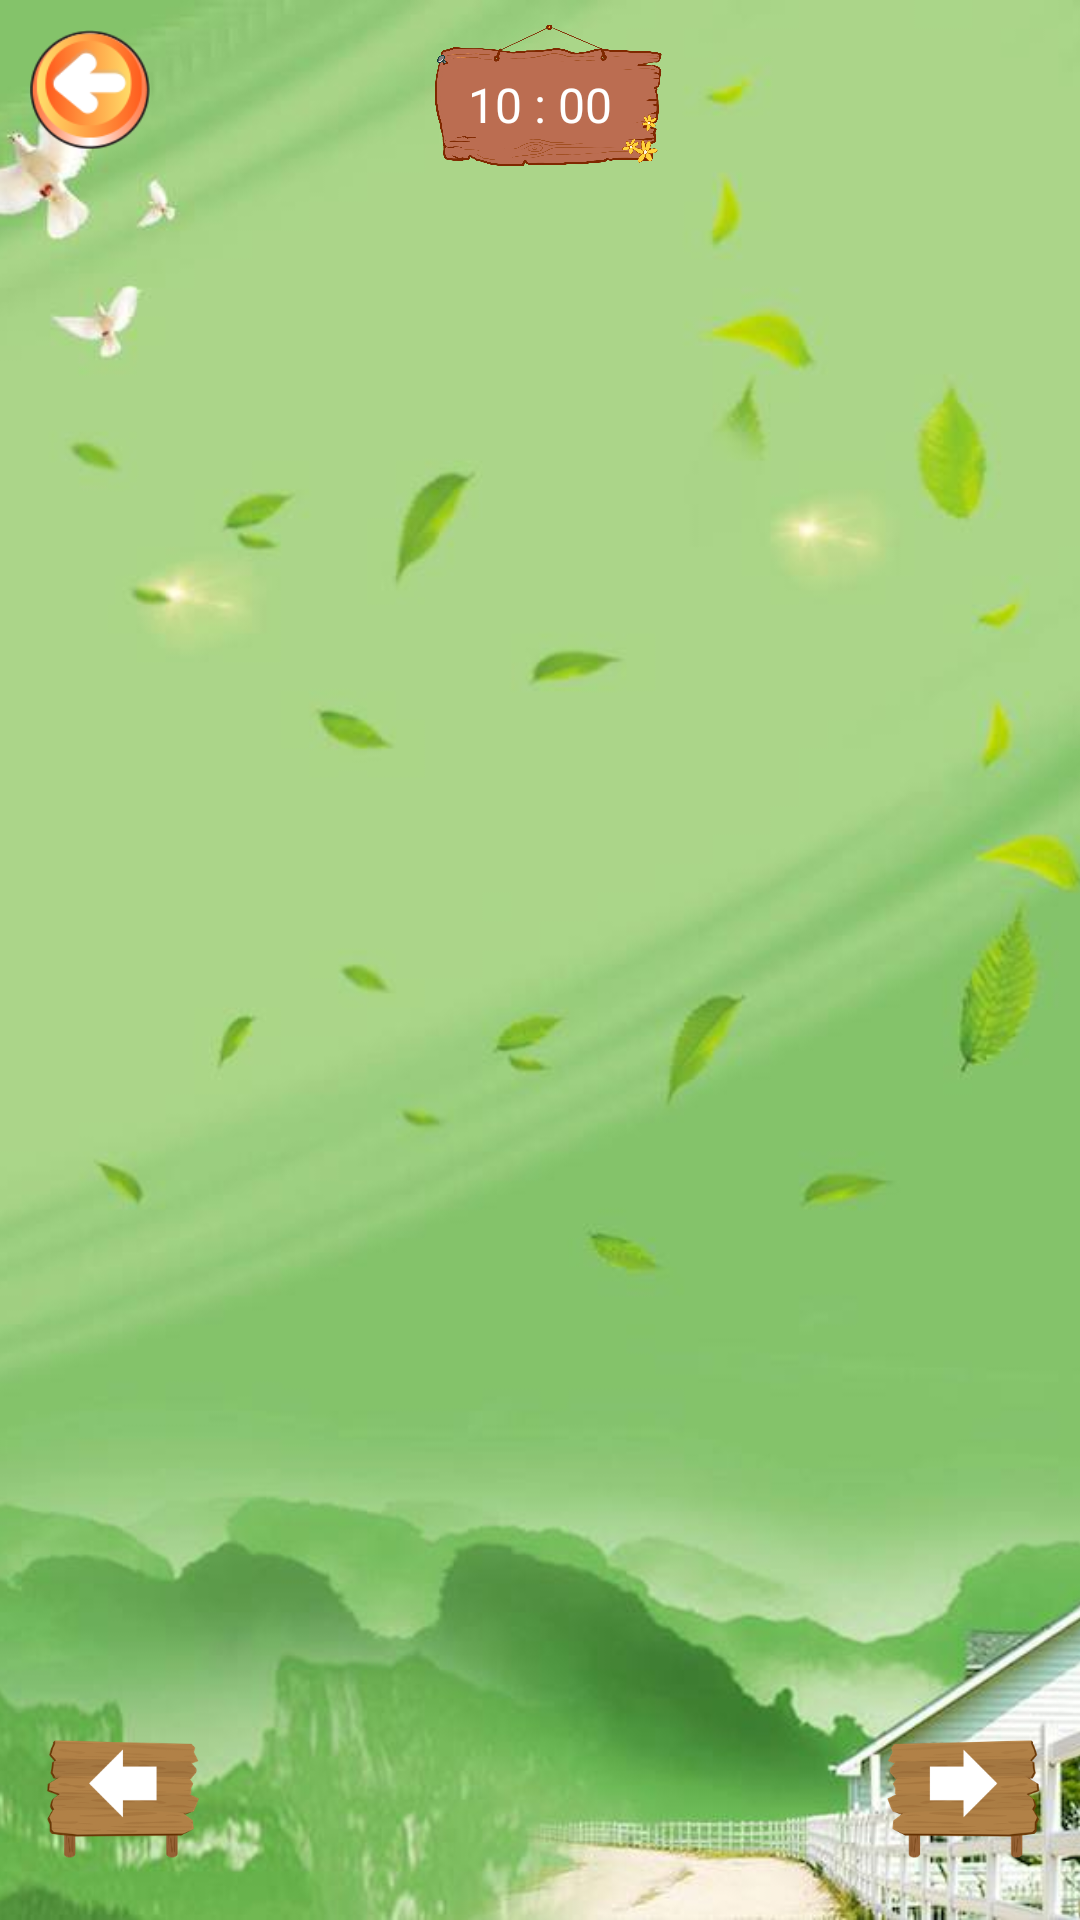

Named icons in this screenshot (1080x1920) and their centers, point (x, y):
back: point (90, 105)
next cauhoi: point (960, 1800)
pre cauhoi: point (120, 1807)
